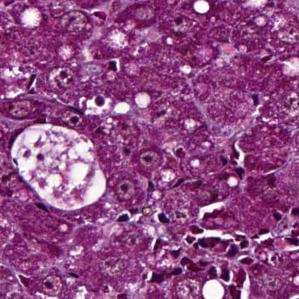ballooning: (9, 120, 109, 213)
